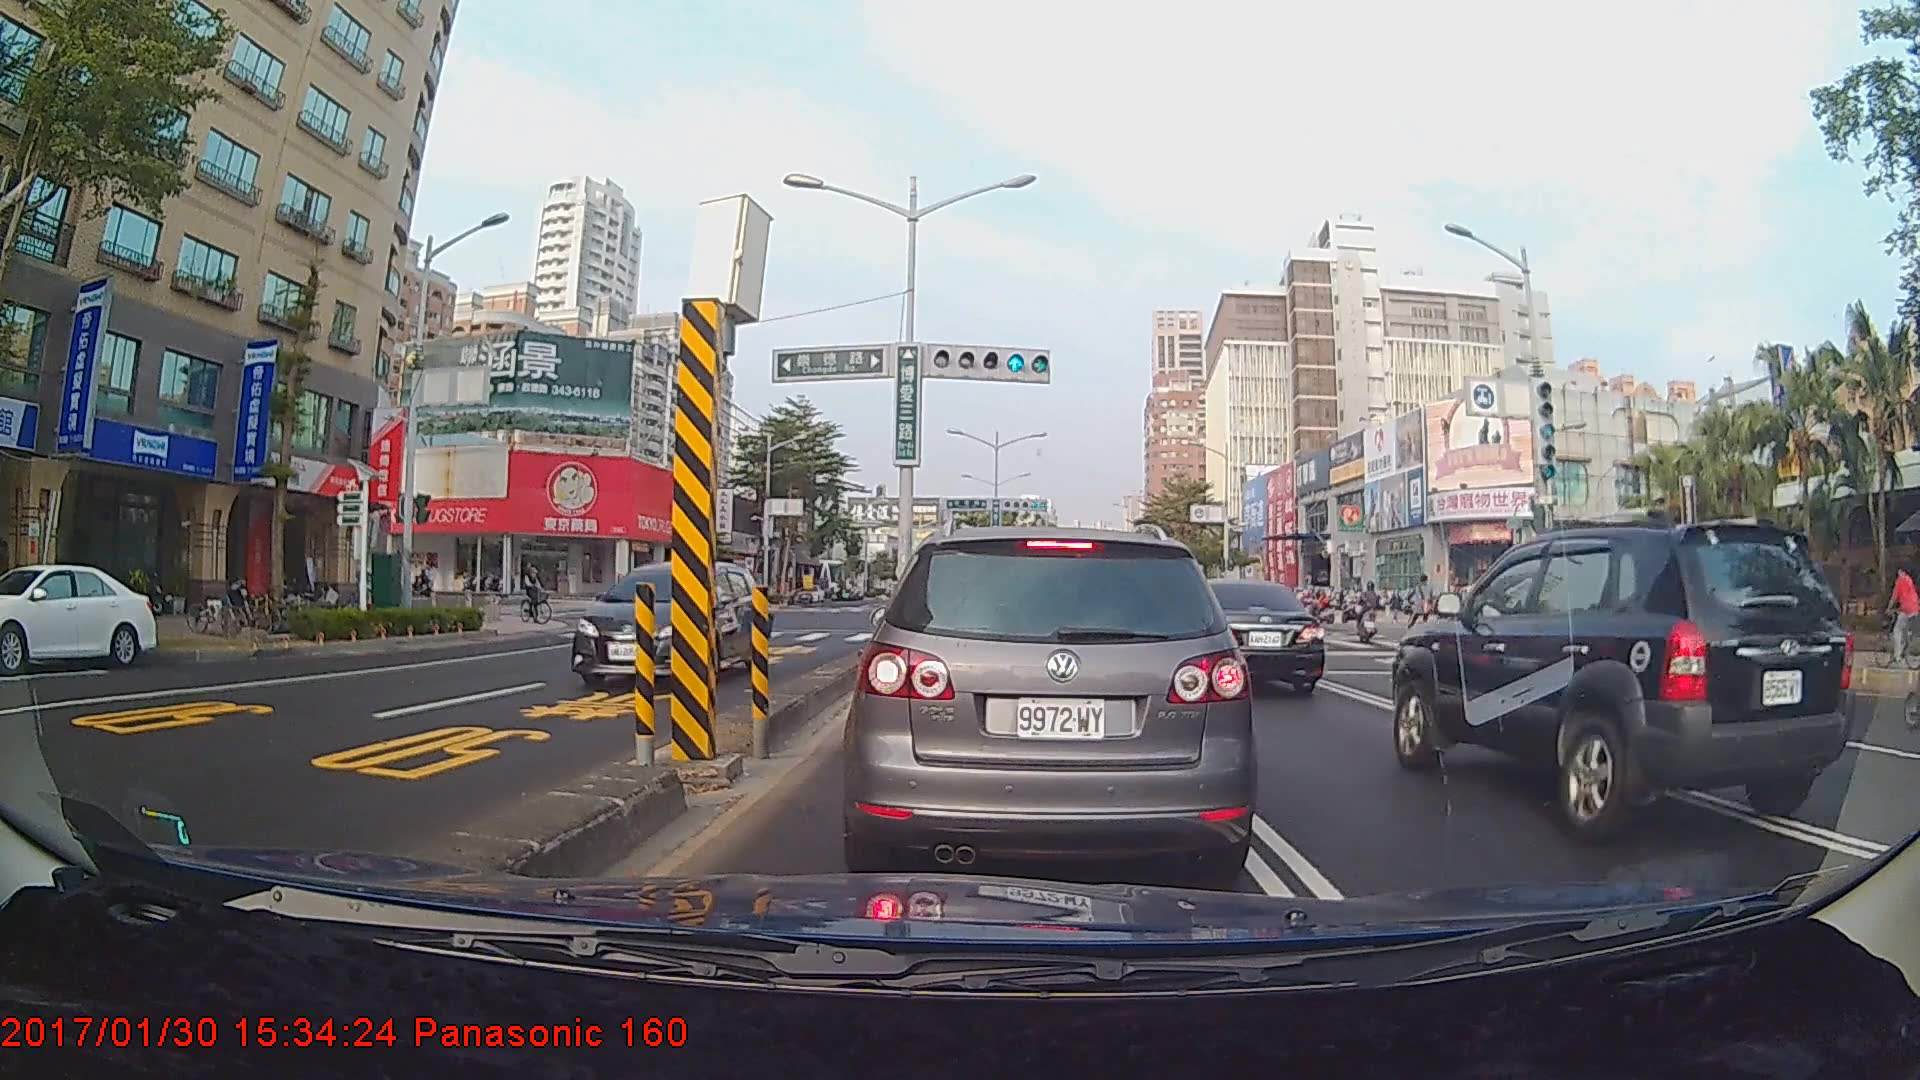rider: (1405, 570, 1440, 658), (518, 559, 561, 629), (1352, 580, 1387, 646), (413, 563, 436, 603)
vehicle: (1391, 516, 1858, 843), (850, 521, 1247, 880), (570, 558, 769, 691), (1160, 576, 1327, 696), (0, 561, 156, 671)
